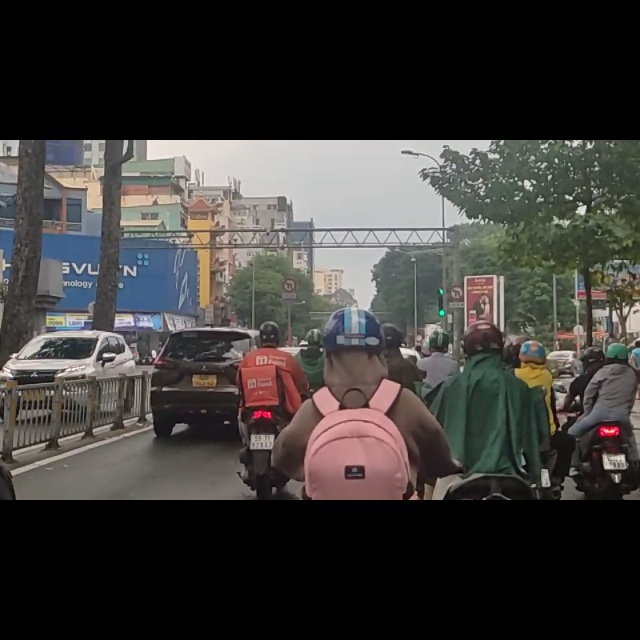bien_cam: (450, 256, 465, 283), (282, 247, 297, 270)
